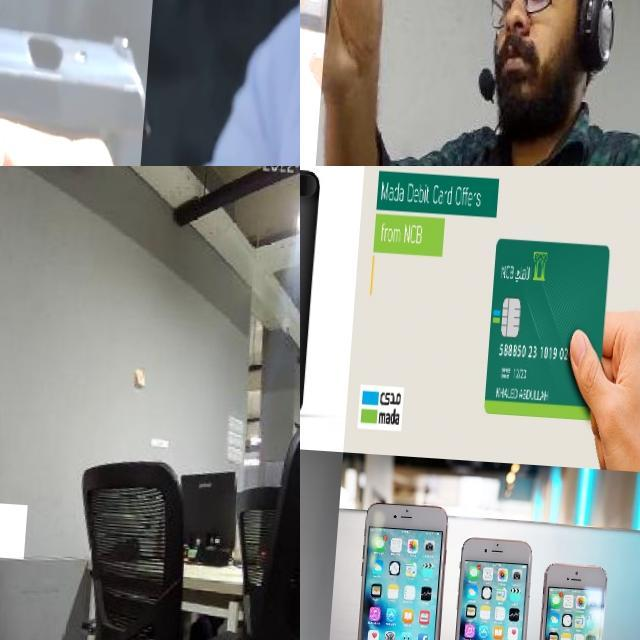-: (300, 0, 334, 166), (0, 499, 33, 555)
gun-knife-thesis - v11 Yolov5 augmented: (0, 0, 161, 166)
